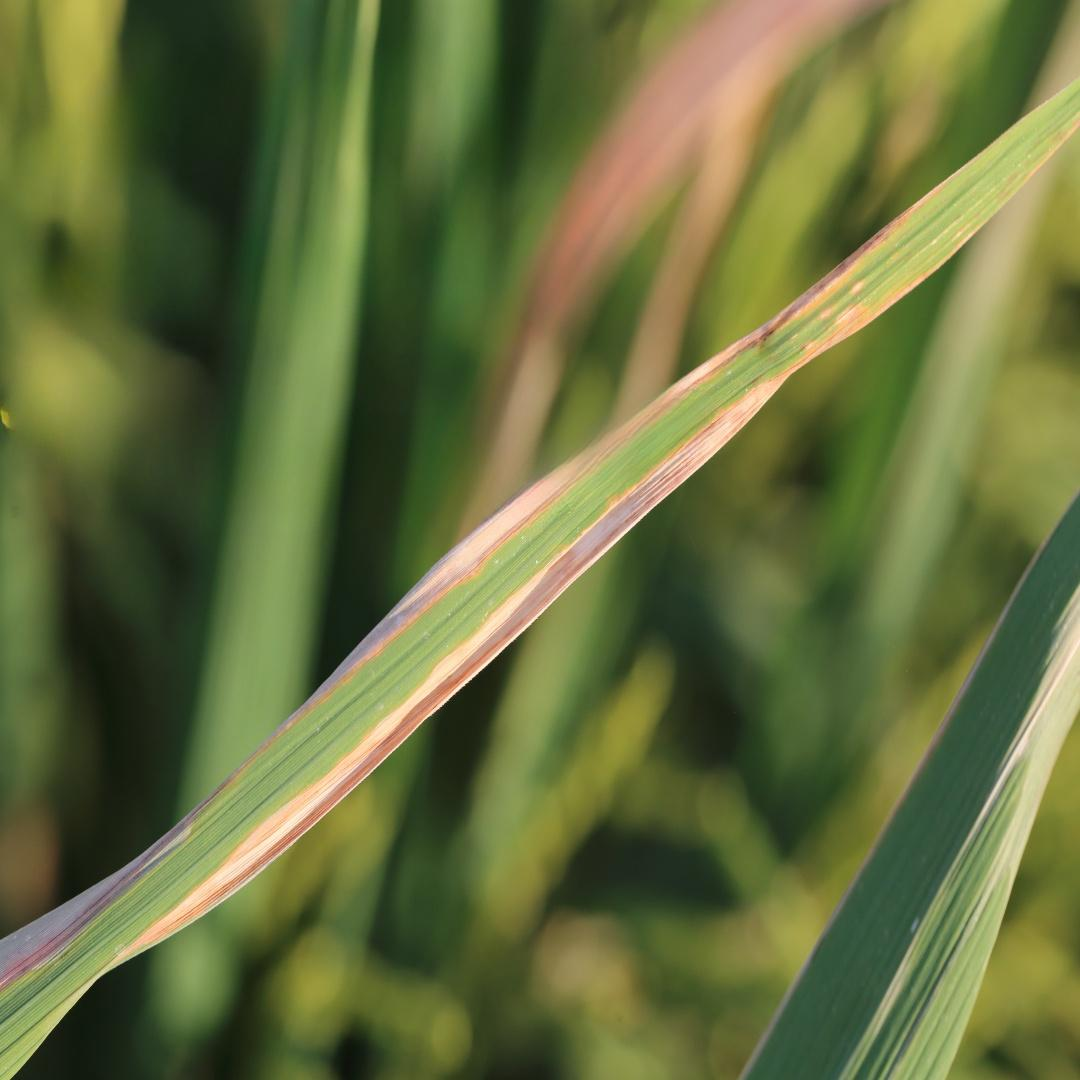BLB: (0, 153, 981, 993), (113, 221, 982, 965)
LEAF: (0, 82, 1079, 1079)
